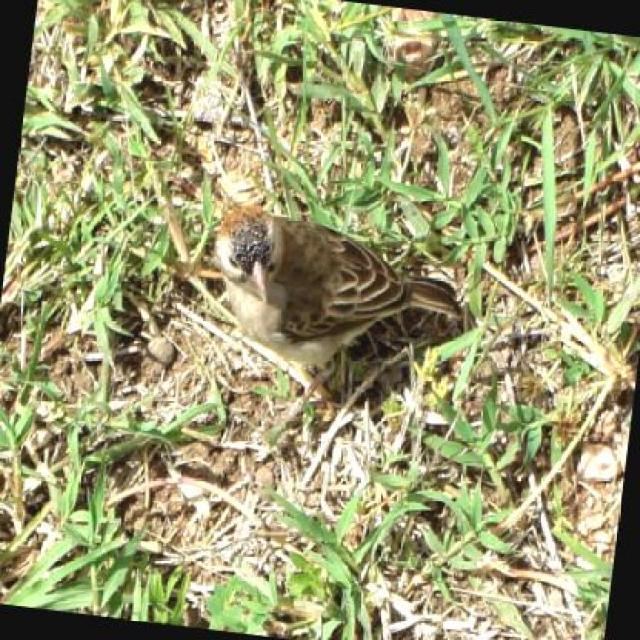Bird: (213, 203, 464, 386)
